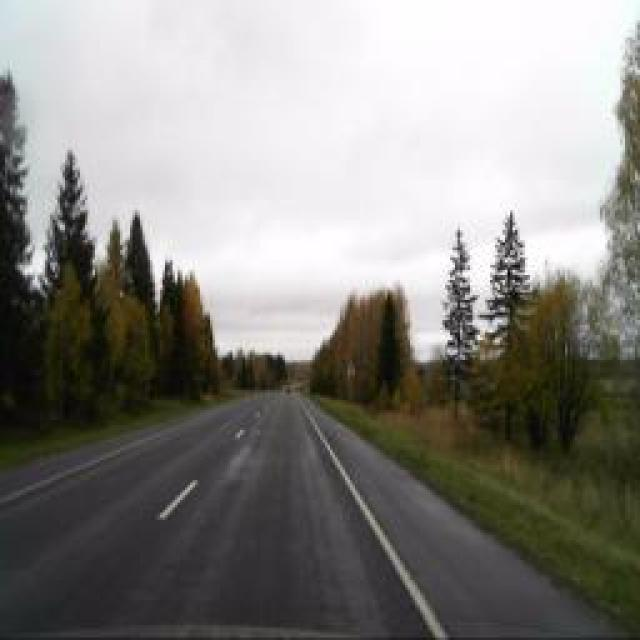sign: (344, 358, 356, 378)
